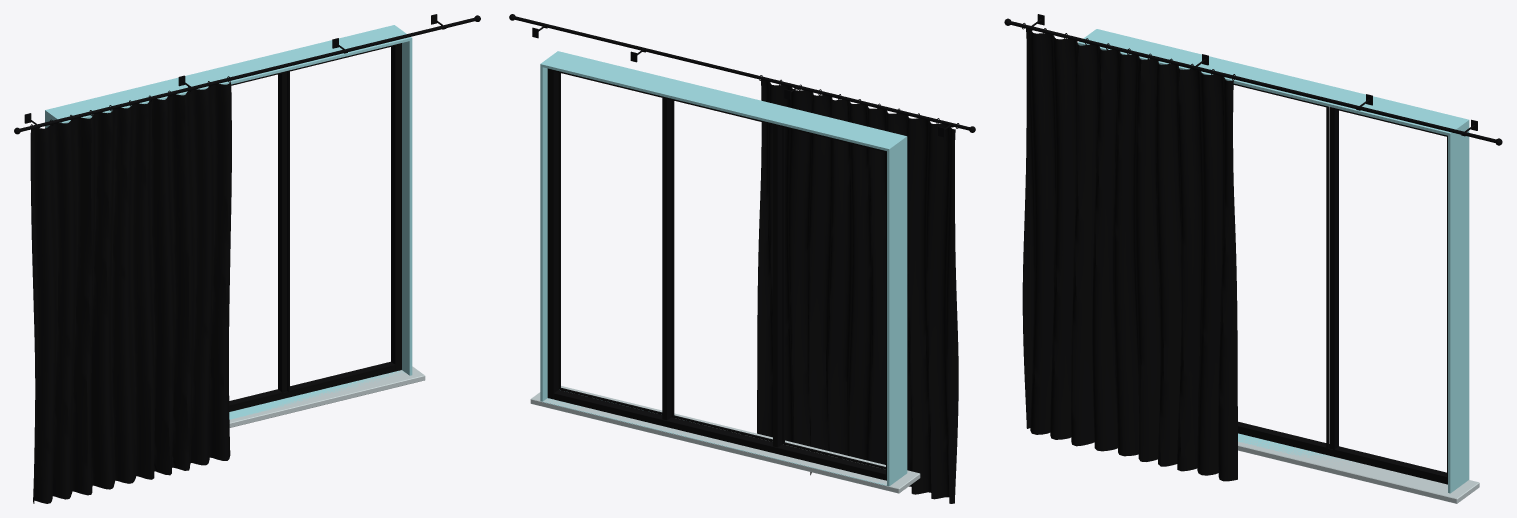
The model's file is window_curtain.glb.
The picture shows the model from 3 angles, left to right: view 1: azimuth 30°, elevation 25°; view 2: azimuth 150°, elevation 25°; view 3: azimuth 330°, elevation 25°; orthographic projection. The views are drawn at different scales.
Parts seen in each view (by area): view 1: curtain, reveal, frame, sill, curtain_rail; view 2: curtain, frame, reveal, sill, curtain_rail; view 3: curtain, reveal, frame, sill, curtain_rail.
Boxes of the visible parts, x1=… form: curtain: x1=30, y1=82, x2=231, y2=503; reveal: x1=45, y1=25, x2=412, y2=419; frame: x1=229, y1=43, x2=401, y2=411; sill: x1=229, y1=366, x2=425, y2=427; curtain_rail: x1=14, y1=14, x2=480, y2=134; curtain: x1=757, y1=80, x2=958, y2=503; frame: x1=547, y1=68, x2=886, y2=480; reveal: x1=540, y1=51, x2=907, y2=486; sill: x1=530, y1=386, x2=920, y2=493; curtain_rail: x1=509, y1=14, x2=975, y2=137; curtain: x1=1022, y1=28, x2=1237, y2=481; reveal: x1=1078, y1=29, x2=1469, y2=493; frame: x1=1233, y1=83, x2=1447, y2=484; sill: x1=1238, y1=436, x2=1479, y2=503; curtain_rail: x1=1004, y1=14, x2=1502, y2=145.
Bounding box in the file's own units: 3.79 × 2.97 × 0.4602.
